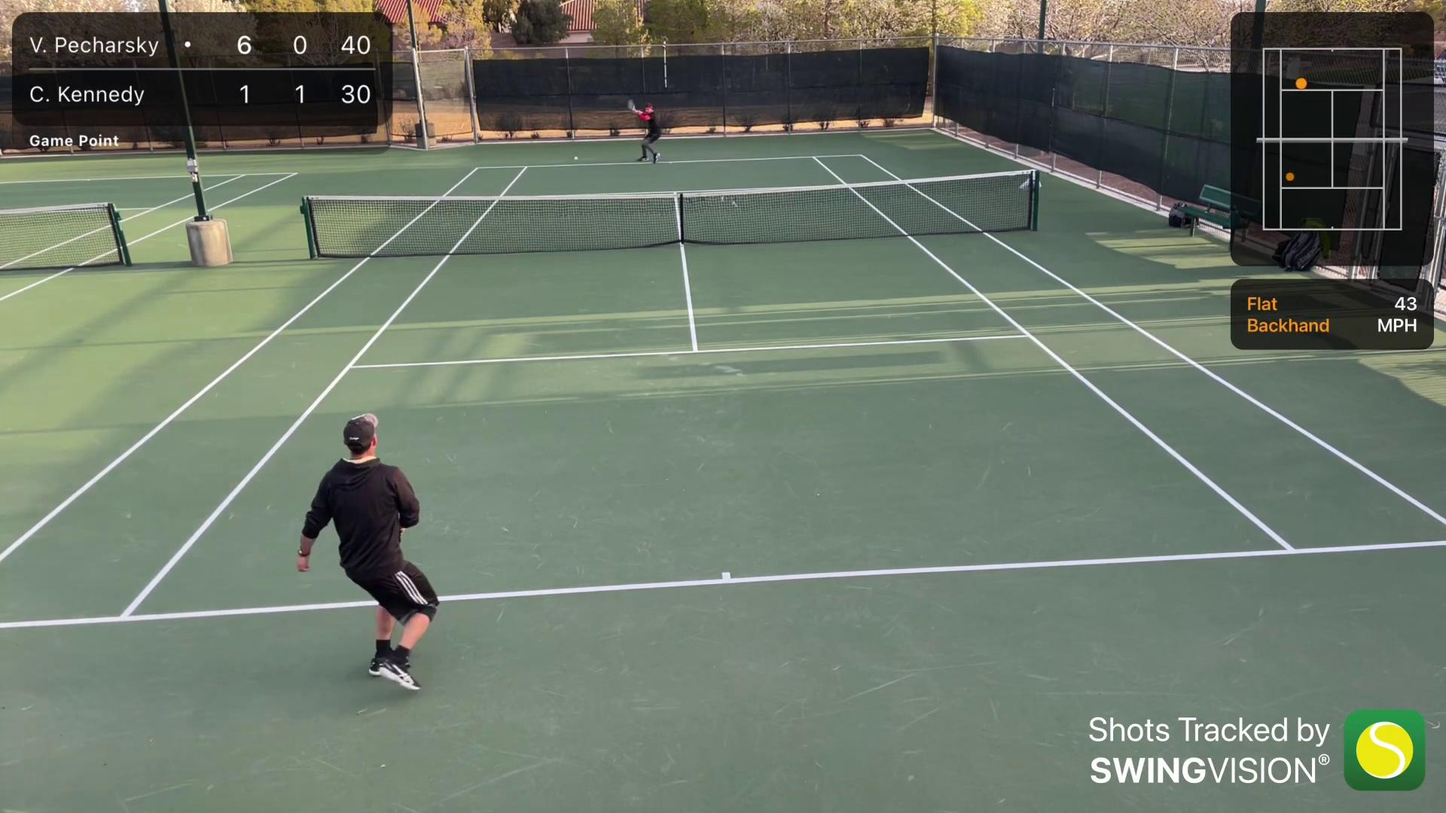ball: (574, 154, 580, 162)
